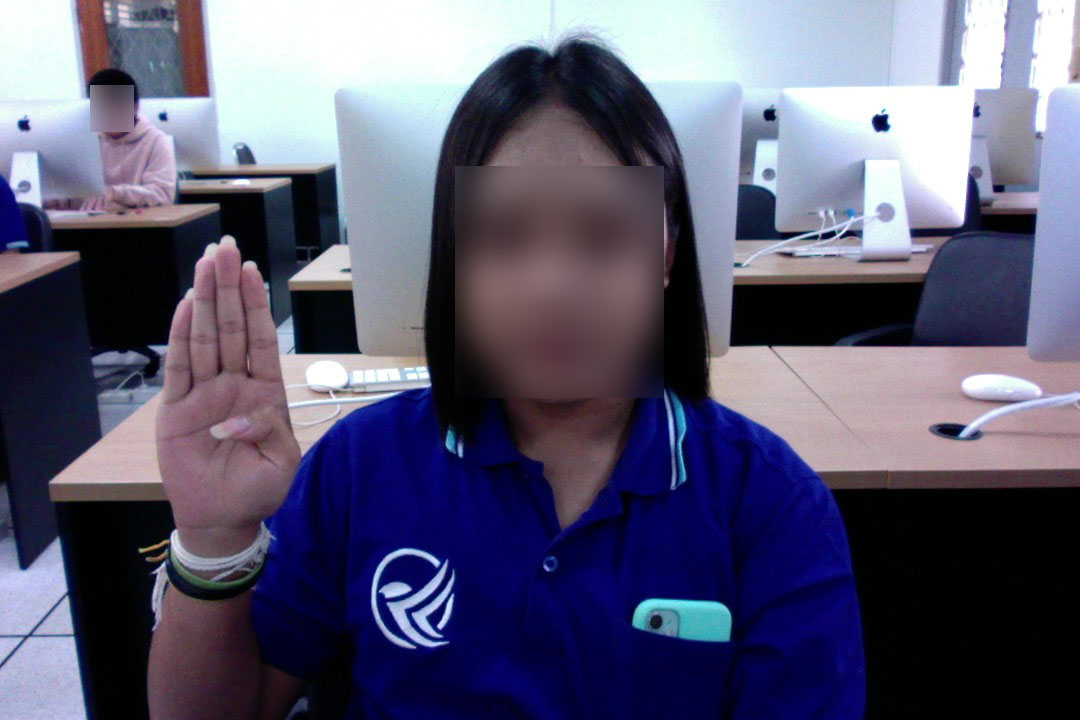bor: (147, 224, 306, 547)
